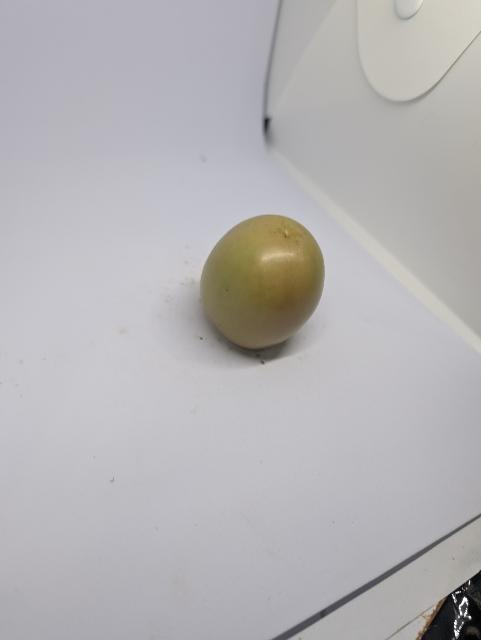breaker: (194, 214, 331, 355)
